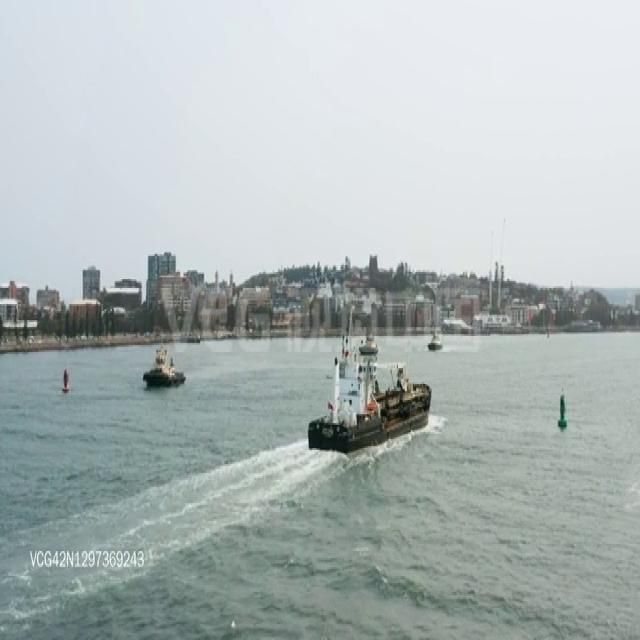houseboat: (306, 329, 431, 449), (142, 343, 188, 394), (358, 329, 379, 352), (425, 327, 443, 351)
